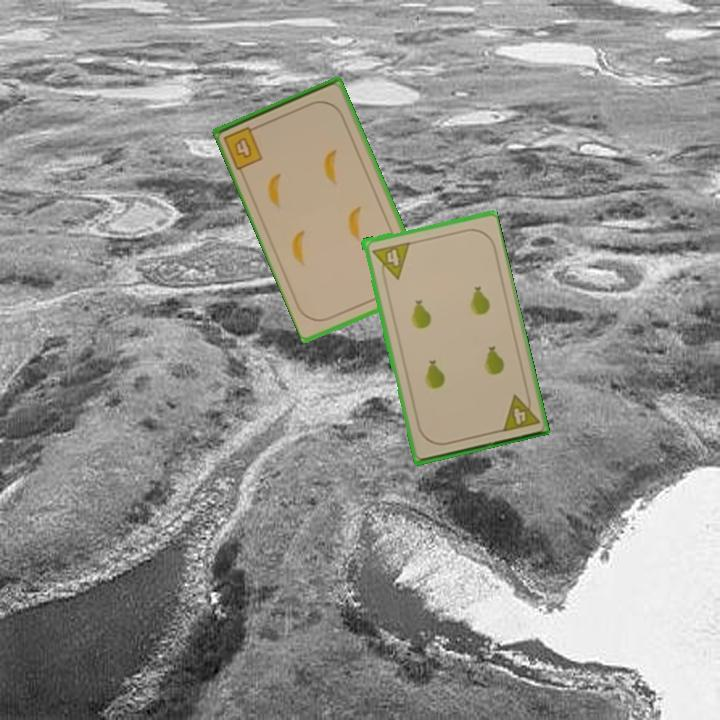4b: (220, 122, 266, 172)
4p: (368, 238, 412, 284), (498, 388, 542, 434)
